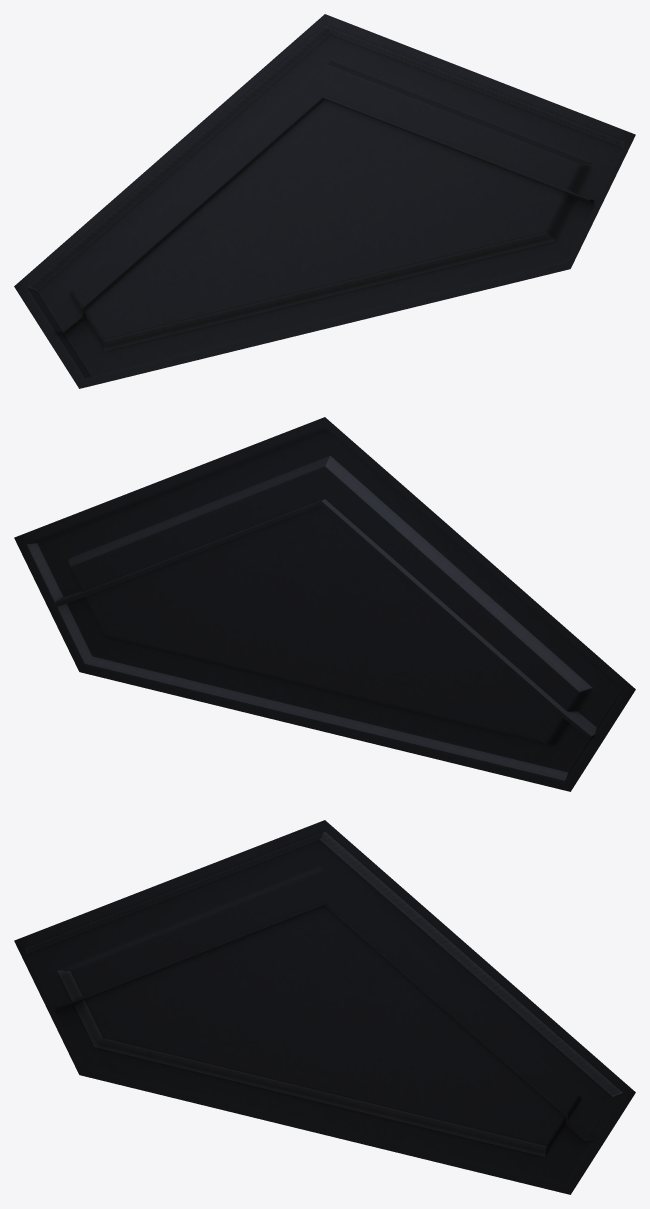
File: door_bottom.obj
3 views of the same model, one above another, from view 1: azimuth 30°, elevation 25°; view 2: azimuth 150°, elevation 25°; view 3: azimuth 330°, elevation 25° (orthographic).
Visible parts, largest first — view 1: Object013; view 2: Object013; view 3: Object013.
Boxes of the visible parts, x1=… form: Object013: x1=14, y1=14, x2=635, y2=388; Object013: x1=14, y1=417, x2=635, y2=791; Object013: x1=14, y1=820, x2=635, y2=1194.
Size of the model in its own units: 3.34 by 1.62 by 0.0812.
1 material, 1 textured.
